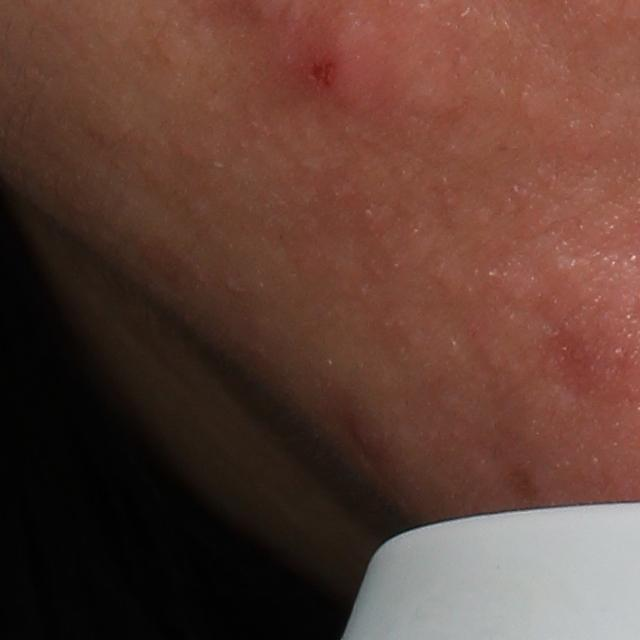atrophic_scar: (535, 316, 611, 408)
papule: (295, 26, 374, 111), (341, 403, 400, 467)
